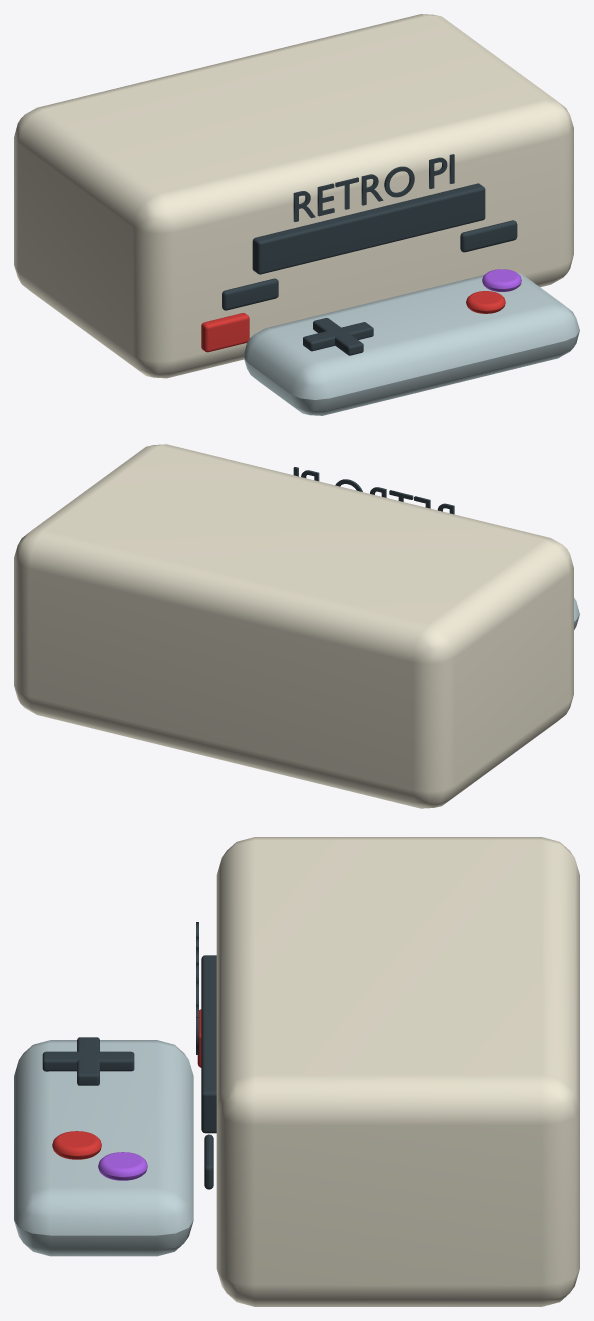
The model's file is retro-pi.glb.
3 views of the same model, one above another, from view 1: azimuth 30°, elevation 25°; view 2: azimuth 150°, elevation 25°; view 3: azimuth 270°, elevation 25° (orthographic). The views are drawn at different scales.
Parts seen in each view (by area): view 1: Retro console, Gamepad, Cartridge slot, Label RETRO PI, Power button, Controller port.001, Controller port, D-pad horizontal, D-pad vertical, Action button.001, Action button; view 2: Retro console, Label RETRO PI; view 3: Retro console, Gamepad, Cartridge slot, D-pad vertical, Action button, Action button.001, D-pad horizontal.
Boxes of the visible parts, bbox=[...] form: Retro console: bbox=[14, 14, 573, 378]; Gamepad: bbox=[243, 272, 579, 415]; Cartridge slot: bbox=[252, 183, 485, 274]; Label RETRO PI: bbox=[293, 154, 454, 221]; Power button: bbox=[201, 313, 249, 352]; Controller port.001: bbox=[460, 220, 517, 252]; Controller port: bbox=[222, 278, 278, 310]; D-pad horizontal: bbox=[303, 322, 373, 351]; D-pad vertical: bbox=[313, 318, 363, 355]; Action button.001: bbox=[482, 269, 521, 291]; Action button: bbox=[466, 291, 505, 313]; Retro console: bbox=[14, 444, 573, 808]; Label RETRO PI: bbox=[293, 467, 454, 514]; Retro console: bbox=[216, 837, 579, 1306]; Gamepad: bbox=[14, 1040, 193, 1256]; Cartridge slot: bbox=[201, 955, 216, 1133]; D-pad vertical: bbox=[42, 1051, 134, 1071]; Action button: bbox=[52, 1131, 101, 1159]; Action button.001: bbox=[98, 1152, 147, 1180]; D-pad horizontal: bbox=[77, 1037, 99, 1085].
Bounding box in the file's own units: 1.65 × 0.66 × 1.48.
